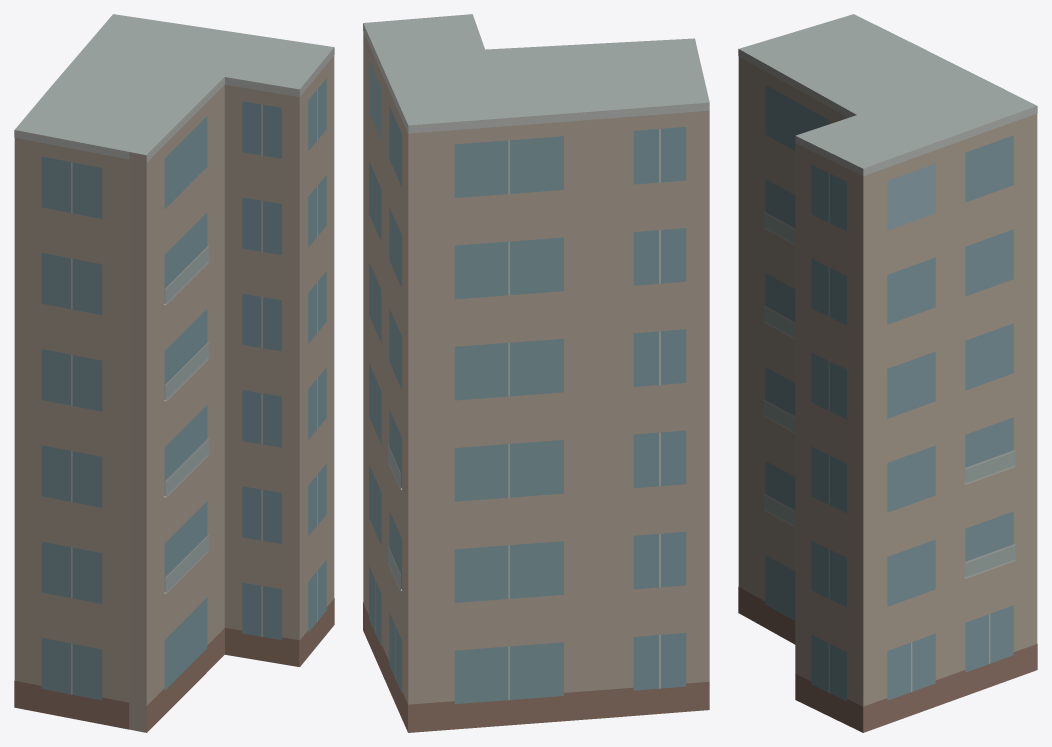
The model's file is survey-upis-32674430.glb.
3 renders of one model, left to right at view 1: azimuth 30°, elevation 25°; view 2: azimuth 150°, elevation 25°; view 3: azimuth 270°, elevation 25°, orthographic. The views are drawn at different scales.
Visible parts, largest first — view 1: survey-upis-32674430.tmp; view 2: survey-upis-32674430.tmp; view 3: survey-upis-32674430.tmp.
Boxes of the visible parts, x1,y1,x2,y2 form: survey-upis-32674430.tmp: (14,14,334,732); survey-upis-32674430.tmp: (363,14,709,732); survey-upis-32674430.tmp: (738,14,1037,732).
Size of the model in its own units: 10.78 by 18.3 by 8.8.
